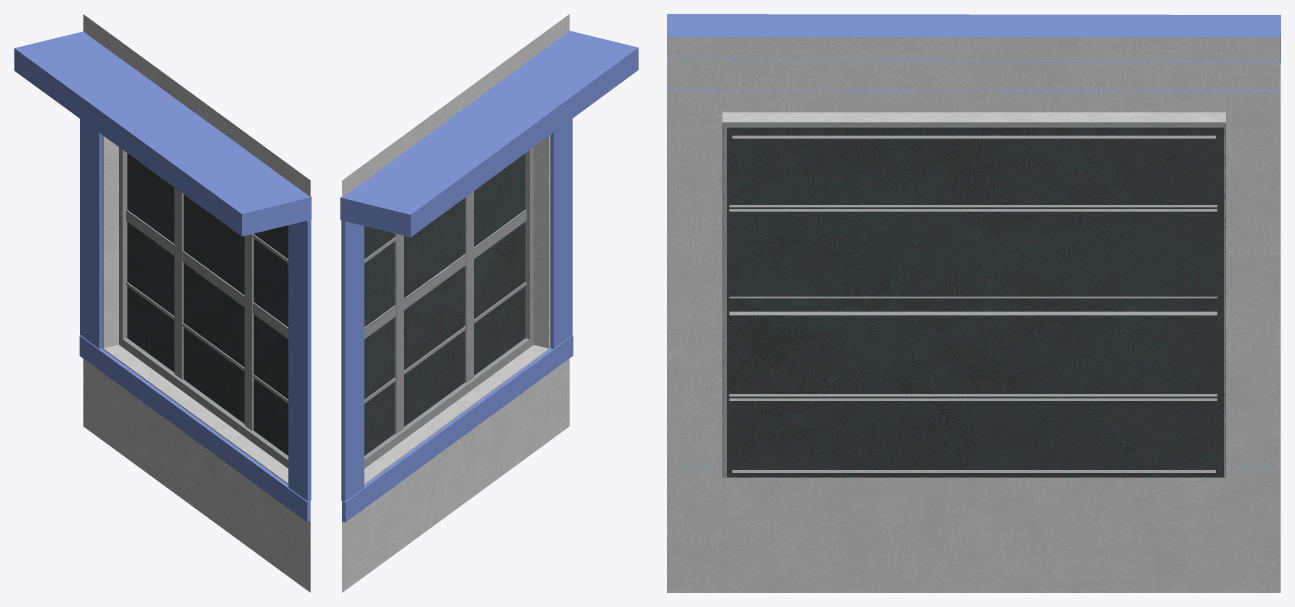
File: MB_Wall_Window_A_25.fbx
3 views of the same model, side by side, from view 1: azimuth 30°, elevation 25°; view 2: azimuth 150°, elevation 25°; view 3: azimuth 270°, elevation 25° (orthographic). The views are drawn at different scales.
Parts seen in each view (by area): view 1: MB_Wall_Window_A_25; view 2: MB_Wall_Window_A_25; view 3: MB_Wall_Window_A_25.
Boxes of the visible parts, x1,y1,x2,y2 form: MB_Wall_Window_A_25: (14,14,311,592); MB_Wall_Window_A_25: (340,14,638,592); MB_Wall_Window_A_25: (667,14,1280,592).
Size of the model in its own units: 95.16 by 400 by 400.
